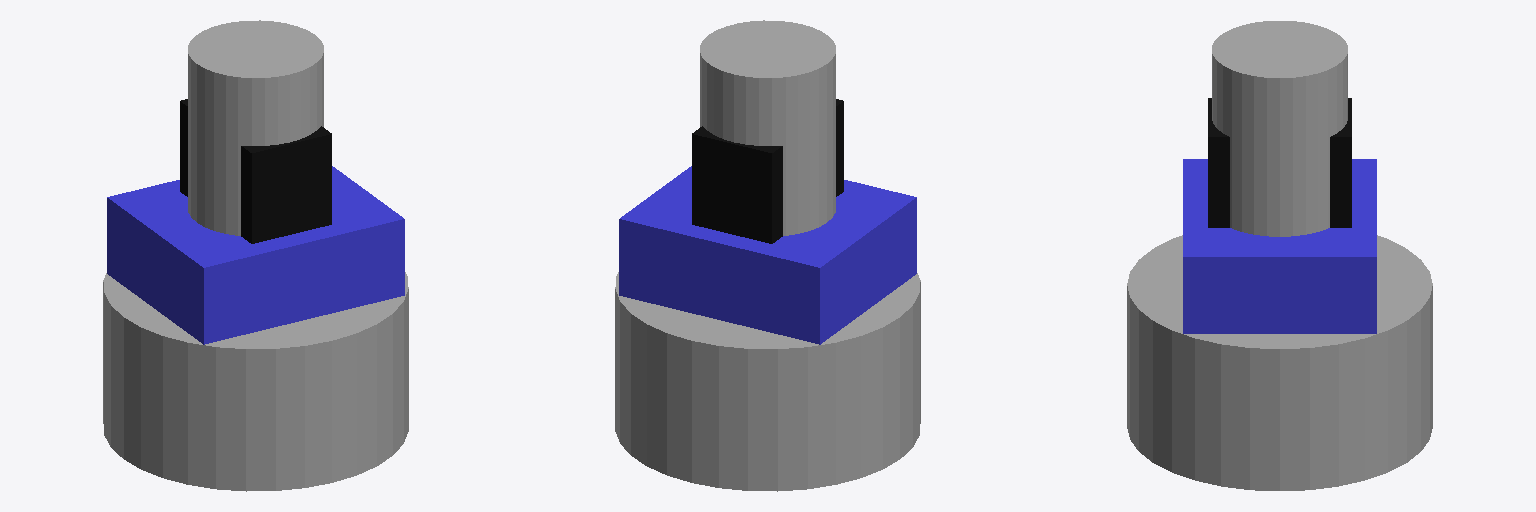
robot.urdf — evolved_robot:
<?xml version="1.0"?>
<robot name="evolved_robot">
  <material name="metal">
    <color rgba="0.7 0.7 0.7 1.0"/>
  </material>
  <material name="plastic">
    <color rgba="0.3 0.3 0.9 1.0"/>
  </material>
  <material name="rubber">
    <color rgba="0.1 0.1 0.1 1.0"/>
  </material>
  <material name="red">
    <color rgba="1.0 0.0 0.0 1.0"/>
  </material>
  <material name="wheel_material">
    <color rgba="0.2 0.2 0.2 1.0"/>
  </material>
  <link name="base_link">
    <visual>
      <geometry><cylinder radius="0.11914373872814613" length="0.1222400662433975"/></geometry>
      <material name="metal"/>
    </visual>
    <collision>
      <geometry><cylinder radius="0.11914373872814613" length="0.1222400662433975"/></geometry>
    </collision>
    <inertial>
      <mass value="5.0"/>
      <inertia ixx="0.047940271024627036" ixy="0" ixz="0" 
               iyy="0.047940271024627036" iyz="0" 
               izz="0.07097615239060373"/>
    </inertial>
  </link>
  <link name="link1">
    <visual>
      <geometry><box size="0.18096636305530917 0.1505596901425931 0.13188925897552822"/></geometry>
      <material name="plastic"/>
    </visual>
    <collision>
      <geometry><box size="0.18096636305530917 0.1505596901425931 0.13188925897552822"/></geometry>
    </collision>
    <inertial>
      <mass value="0.5"/>
      <inertia ixx="0.0033385830774122997" ixy="0" ixz="0" 
               iyy="0.004178633432548326" iyz="0" 
               izz="0.0046180870711083006"/>
    </inertial>
  </link>
  <joint name="joint1" type="revolute">
    <parent link="base_link"/>
    <child link="link1"/>
    <origin xyz="0 0 0.06112003312169875" rpy="0 0 0"/>
    <axis xyz="0.9166748237849409 0.2111673642041393 -0.33928691653808846"/>
    <dynamics damping="0.7359971814790645" friction="0.1"/>
    <limit lower="-1.6878129517187643" upper="1.099" effort="100" velocity="100"/>
  </joint>
  <link name="link2">
    <visual>
      <geometry><box size="0.07242867081383741 0.11224938386190869 0.18783796745459674"/></geometry>
      <material name="rubber"/>
    </visual>
    <collision>
      <geometry><box size="0.07242867081383741 0.11224938386190869 0.18783796745459674"/></geometry>
    </collision>
    <inertial>
      <mass value="0.5"/>
      <inertia ixx="0.003990252182904355" ixy="0" ixz="0" 
               iyy="0.003377417864444447" iyz="0" 
               izz="0.0014871530444364462"/>
    </inertial>
  </link>
  <joint name="joint2" type="revolute">
    <parent link="base_link"/>
    <child link="link2"/>
    <origin xyz="0 0 0.11112003312169876" rpy="0 0 0"/>
    <axis xyz="0.19824972475011976 -0.34577405933792277 0.9171354025036197"/>
    <dynamics damping="0.7292250985731518" friction="0.1"/>
    <limit lower="-2.414115064041525" upper="0.31400000000000006" effort="100" velocity="100"/>
  </joint>
  <link name="link3">
    <visual>
      <geometry><cylinder radius="0.053343358383716066" length="0.20467690805826394"/></geometry>
      <material name="metal"/>
    </visual>
    <collision>
      <geometry><cylinder radius="0.053343358383716066" length="0.20467690805826394"/></geometry>
    </collision>
    <inertial>
      <mass value="0.5"/>
      <inertia ixx="0.004202431528604312" ixy="0" ixz="0" 
               iyy="0.004202431528604312" iyz="0" 
               izz="0.0014227569418267855"/>
    </inertial>
  </link>
  <joint name="joint3" type="fixed">
    <parent link="base_link"/>
    <child link="link3"/>
    <origin xyz="0 0 0.16112003312169876" rpy="0 0 0"/>
    <axis xyz="-0.22006502906516345 0.8806745142696449 -0.4195042108232927"/>
    <dynamics damping="0.757853448114933" friction="0.1"/>
  </joint>
  <link name="link4">
    <visual>
      <geometry>
        <cylinder radius="0.06204820854501594" length="0.054982276945663475"/>
      </geometry>
      <material name="wheel_material"/>
    </visual>
    <collision>
      <geometry>
        <cylinder radius="0.06204820854501594" length="0.054982276945663475"/>
      </geometry>
    </collision>
    <inertial>
      <mass value="1.0"/>
      <inertia ixx="0.0012144159440889172" ixy="0" ixz="0" 
               iyy="0.0012144159440889172" iyz="0" 
               izz="0.0019249900918228947"/>
    </inertial>
  </link>
  <joint name="joint4" type="continuous">
    <parent link="base_link"/>
    <child link="link4"/>
    <origin xyz="0 0 0" rpy="1.5708 0 0"/>
    <axis xyz="0 1 0"/>
    <dynamics damping="0.7586822519868953" friction="0.1"/>
  </joint>
</robot>

--- What the picture shows (computed from the rendered views, not written in the file) ---
3 views of the same robot in one strip: view 1: azimuth 30°, elevation 25°; view 2: azimuth 150°, elevation 25°; view 3: azimuth 270°, elevation 25° (orthographic).
Robot: evolved_robot — 5 links, 4 joints (2 revolute, 1 continuous, 1 fixed); root link base_link; default pose: every joint at zero.
Links seen in each view (by area): view 1: base_link, link1, link3, link2; view 2: base_link, link1, link3, link2; view 3: base_link, link3, link1, link2.
Link boxes in pixels (x1=…): base_link: x1=103, y1=272, x2=408, y2=491; link1: x1=107, y1=166, x2=404, y2=344; link3: x1=188, y1=20, x2=323, y2=235; link2: x1=180, y1=99, x2=331, y2=243; base_link: x1=615, y1=272, x2=920, y2=491; link1: x1=619, y1=166, x2=916, y2=344; link3: x1=700, y1=20, x2=835, y2=235; link2: x1=692, y1=99, x2=843, y2=243; base_link: x1=1127, y1=235, x2=1432, y2=490; link3: x1=1212, y1=21, x2=1347, y2=236; link1: x1=1183, y1=159, x2=1376, y2=333; link2: x1=1208, y1=98, x2=1351, y2=227.
Bounding box of the posed robot: 0.2383 × 0.2383 × 0.3255 m (x, y, z).
Geometry: primitives only (box / cylinder / sphere), no mesh files.